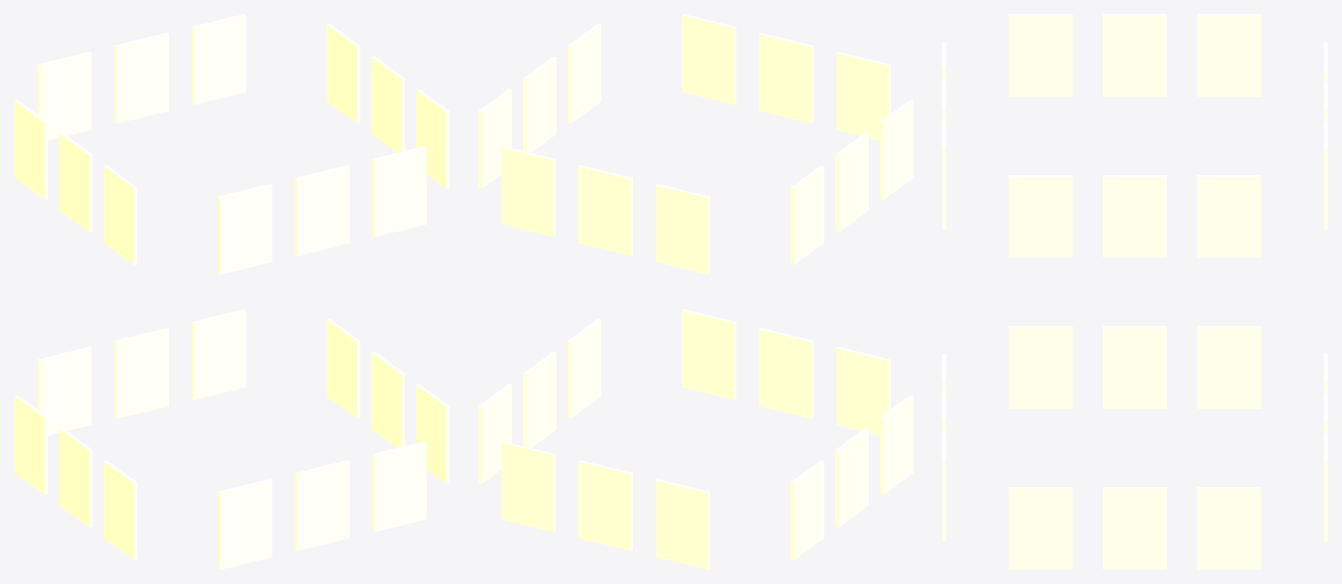
Rendered from building-m.glb.
The picture shows the model from 3 angles, left to right: view 1: azimuth 30°, elevation 25°; view 2: azimuth 150°, elevation 25°; view 3: azimuth 270°, elevation 25°; orthographic projection. The views are drawn at different scales.
Visible parts, largest first — view 1: WindowLight_back_0_1, WindowLight_front_1_1, WindowLight_front_1_2, WindowLight_back_0_2, WindowLight_back_1_2, WindowLight_front_0_0, WindowLight_front_0_2, WindowLight_front_1_0, WindowLight_back_1_1, WindowLight_front_0_1, WindowLight_back_0_0, WindowLight_back_1_0 (+12 smaller); view 2: WindowLight_back_1_1, WindowLight_front_0_1, WindowLight_back_1_2, WindowLight_back_0_0, WindowLight_back_0_2, WindowLight_back_1_0, WindowLight_front_0_2, WindowLight_front_1_2, WindowLight_back_0_1, WindowLight_front_1_1, WindowLight_front_0_0, WindowLight_front_1_0 (+12 smaller); view 3: WindowLight_left_0_0, WindowLight_left_0_2, WindowLight_left_1_0, WindowLight_left_1_2, WindowLight_right_0_0, WindowLight_right_0_2, WindowLight_right_1_0, WindowLight_right_1_2, WindowLight_left_0_1, WindowLight_left_1_1, WindowLight_right_0_1, WindowLight_right_1_1 (+4 smaller).
Boxes of the visible parts, bbox=[...] form: WindowLight_back_0_1: bbox=[114, 328, 168, 418]; WindowLight_front_1_1: bbox=[295, 165, 349, 255]; WindowLight_front_1_2: bbox=[372, 146, 426, 237]; WindowLight_back_0_2: bbox=[191, 309, 245, 399]; WindowLight_back_1_2: bbox=[191, 14, 245, 104]; WindowLight_front_0_0: bbox=[218, 479, 272, 569]; WindowLight_front_0_2: bbox=[372, 441, 426, 532]; WindowLight_front_1_0: bbox=[218, 184, 272, 274]; WindowLight_back_1_1: bbox=[114, 33, 168, 123]; WindowLight_front_0_1: bbox=[295, 460, 349, 550]; WindowLight_back_0_0: bbox=[37, 346, 91, 435]; WindowLight_back_1_0: bbox=[37, 51, 91, 140]; WindowLight_back_1_1: bbox=[578, 165, 632, 255]; WindowLight_front_0_1: bbox=[759, 328, 813, 418]; WindowLight_back_1_2: bbox=[501, 146, 555, 237]; WindowLight_back_0_0: bbox=[655, 479, 709, 569]; WindowLight_back_0_2: bbox=[501, 441, 555, 532]; WindowLight_back_1_0: bbox=[655, 184, 709, 274]; WindowLight_front_0_2: bbox=[682, 309, 736, 399]; WindowLight_front_1_2: bbox=[682, 14, 736, 104]; WindowLight_back_0_1: bbox=[578, 460, 632, 550]; WindowLight_front_1_1: bbox=[759, 33, 813, 123]; WindowLight_front_0_0: bbox=[836, 346, 890, 435]; WindowLight_front_1_0: bbox=[836, 51, 890, 140]; WindowLight_left_0_0: bbox=[1008, 326, 1072, 408]; WindowLight_left_0_2: bbox=[1197, 326, 1261, 408]; WindowLight_left_1_0: bbox=[1008, 14, 1072, 96]; WindowLight_left_1_2: bbox=[1197, 14, 1261, 96]; WindowLight_right_0_0: bbox=[1008, 487, 1072, 569]; WindowLight_right_0_2: bbox=[1197, 487, 1261, 569]; WindowLight_right_1_0: bbox=[1008, 175, 1072, 257]; WindowLight_right_1_2: bbox=[1197, 175, 1261, 257]; WindowLight_left_0_1: bbox=[1103, 326, 1166, 408]; WindowLight_left_1_1: bbox=[1103, 14, 1166, 96]; WindowLight_right_0_1: bbox=[1103, 487, 1166, 569]; WindowLight_right_1_1: bbox=[1103, 175, 1166, 257].
Bounding box in the file's own units: 1.27 × 1.43 × 1.27.
